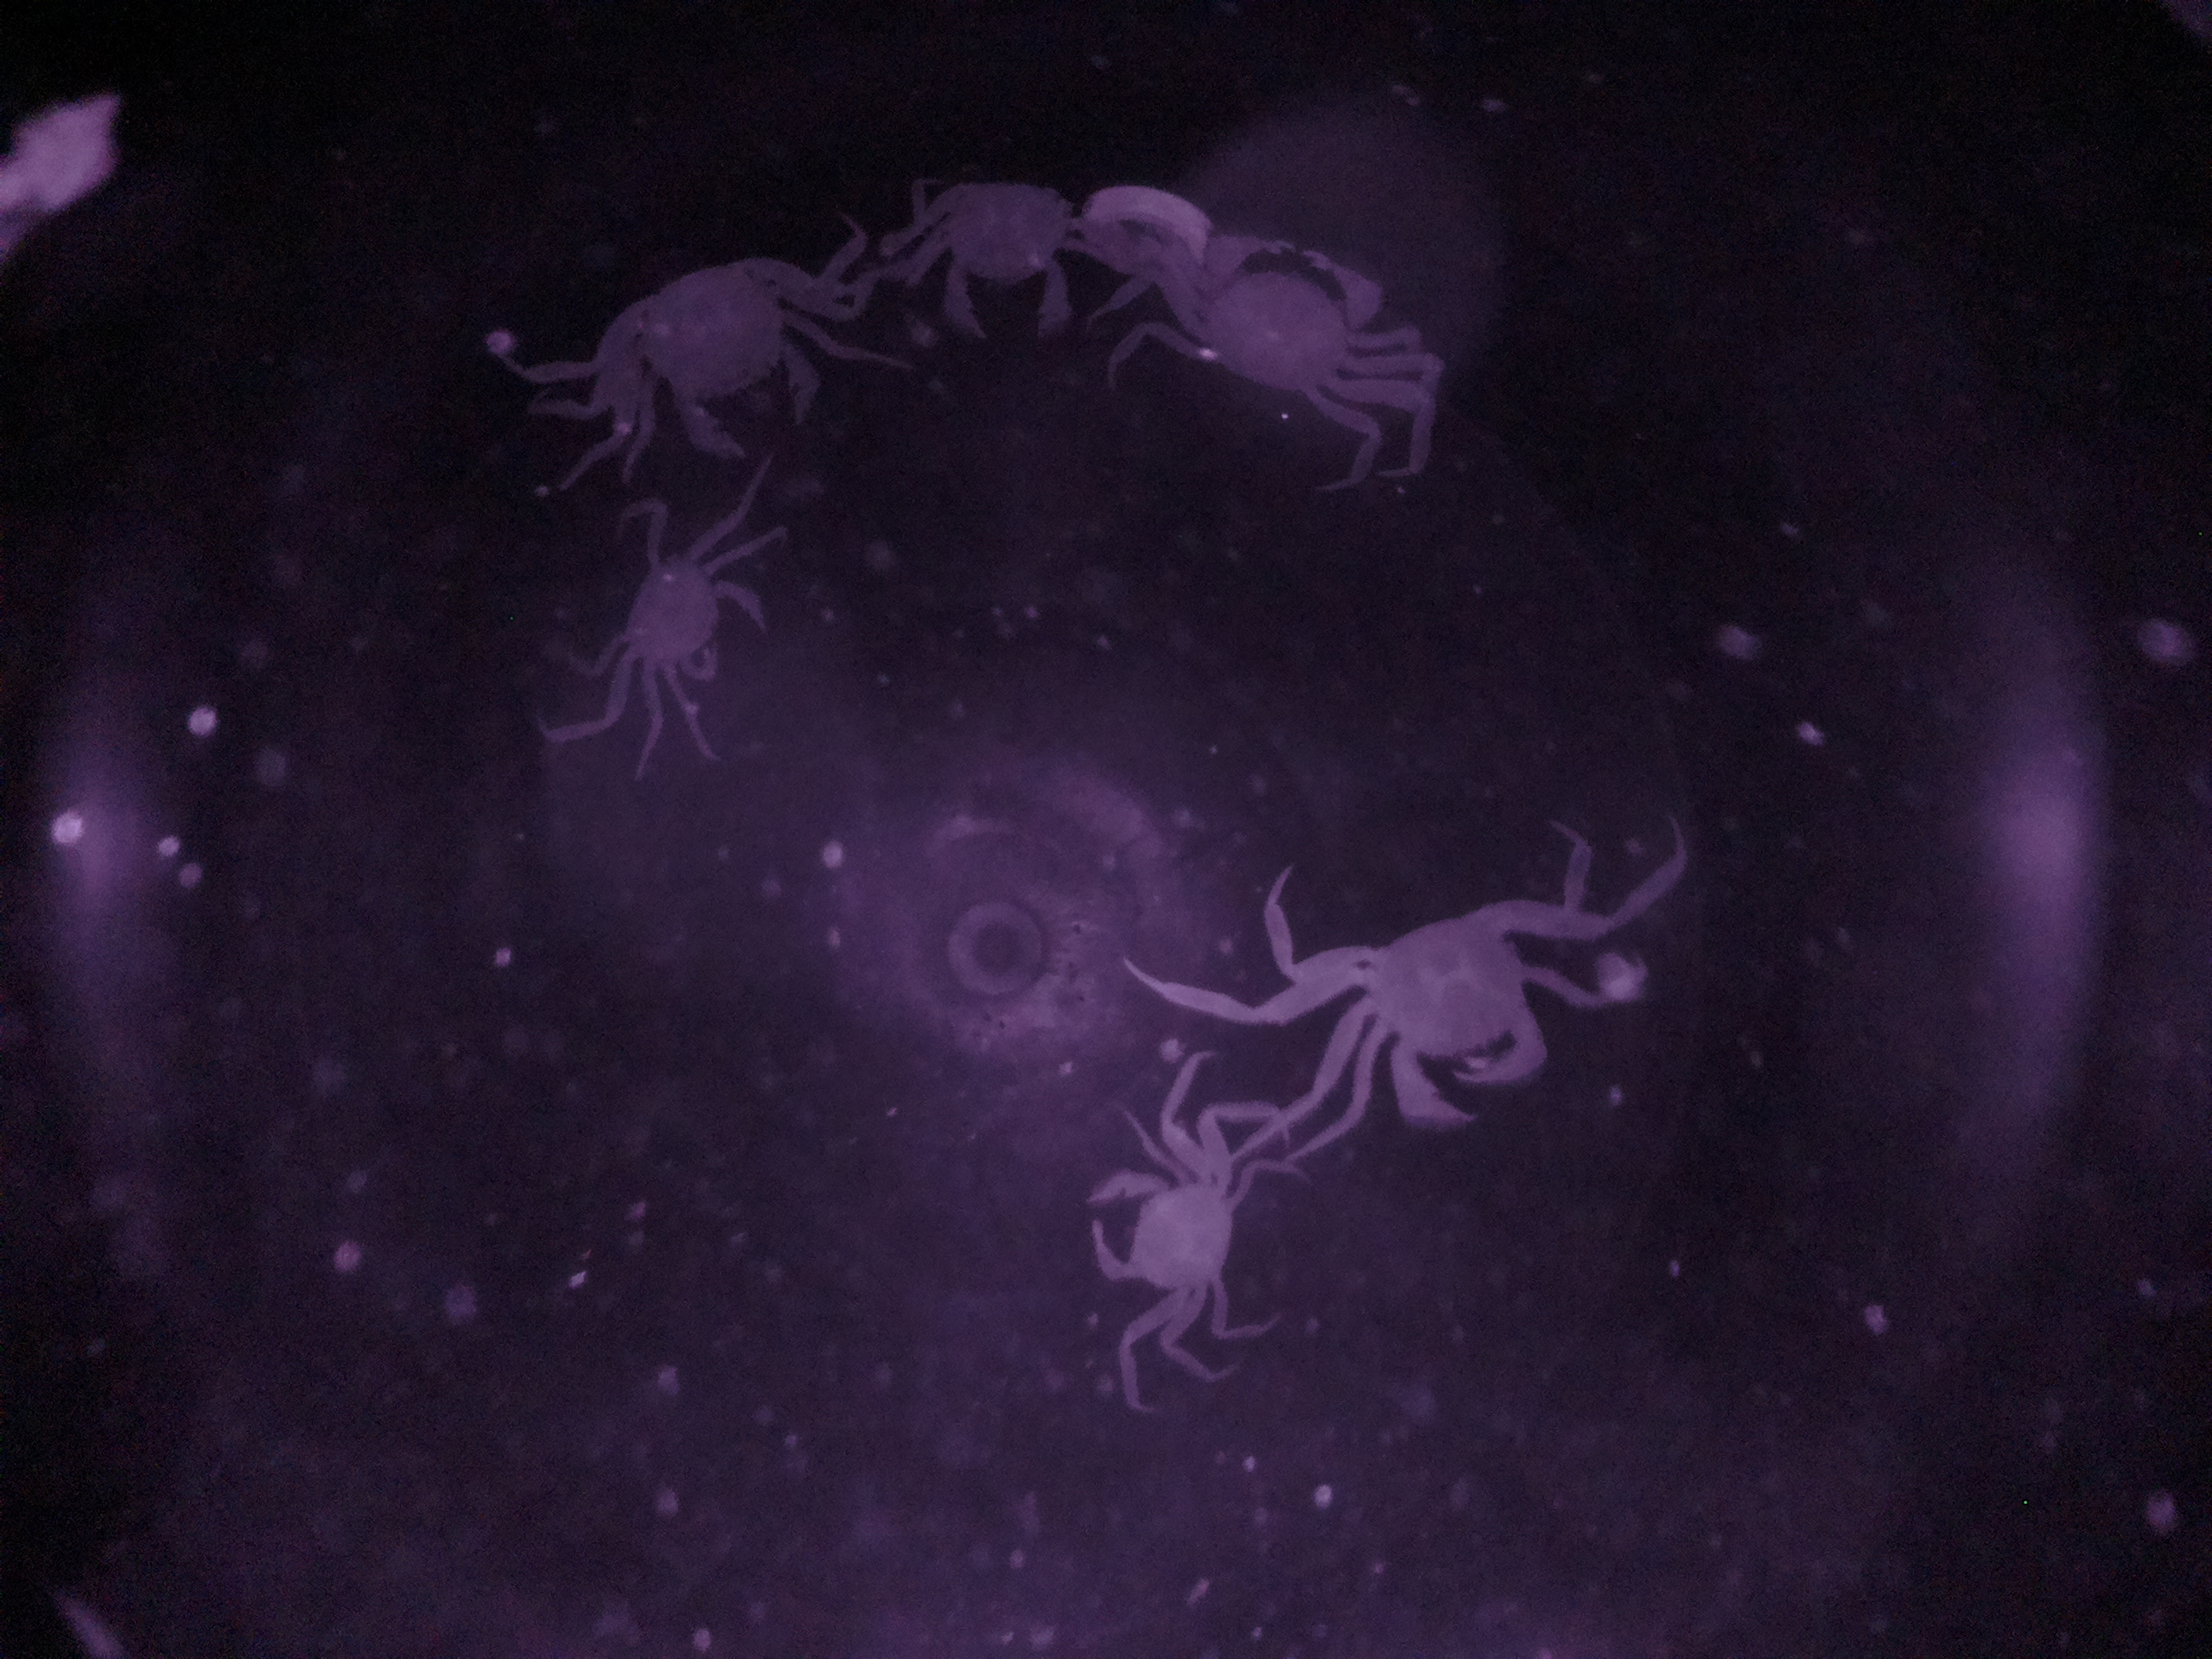Crab: (1289, 873, 1602, 1138), (1150, 209, 1409, 425), (627, 239, 841, 477), (1080, 1093, 1258, 1347), (909, 166, 1103, 371), (604, 526, 794, 718)
